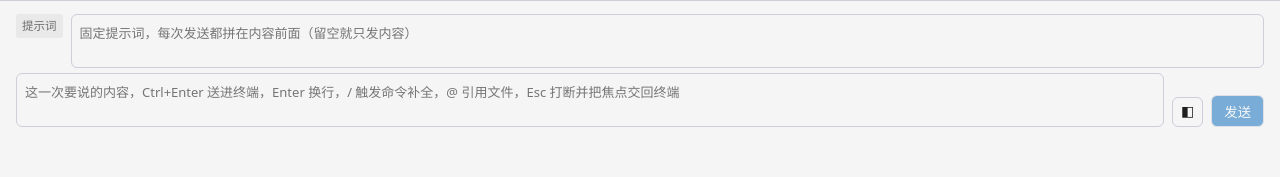
Test: 终端输入框 › 不拿补全清单去核——清单本来就不全
The width and height of the screenshot is (1280, 177).
Type "前缀" into the text box with placeholder "固定提示词，每次发送都拼在内容前面（留空就只发内容）" at coordinates (667, 41), box [70, 14, 1264, 68]
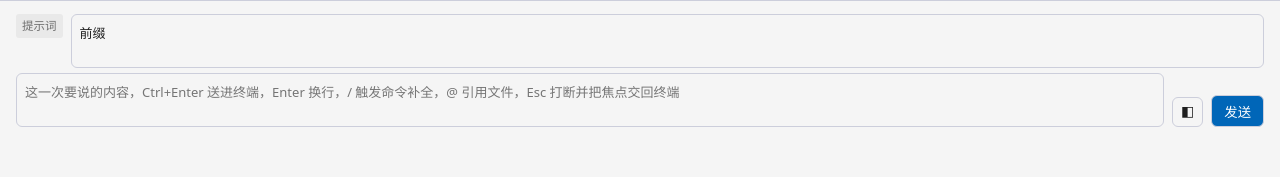
Replace the text in the 2nd text box with "/help" at coordinates (590, 100), box [16, 73, 1164, 127]
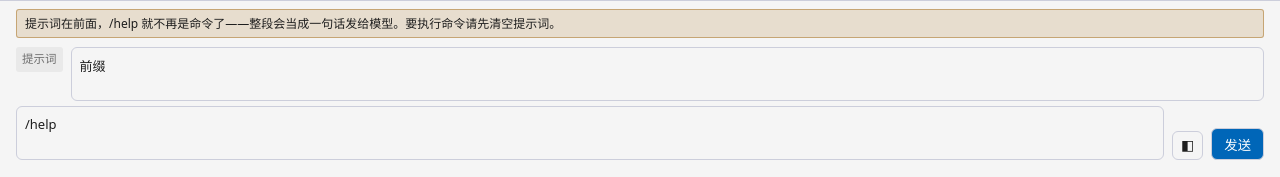
Check: the message "提示词在前面，/help 就不再是命令了——整段会当成一句话发给模型。要执行命令请先清空提示词。" is shown, box [16, 9, 1264, 38]
